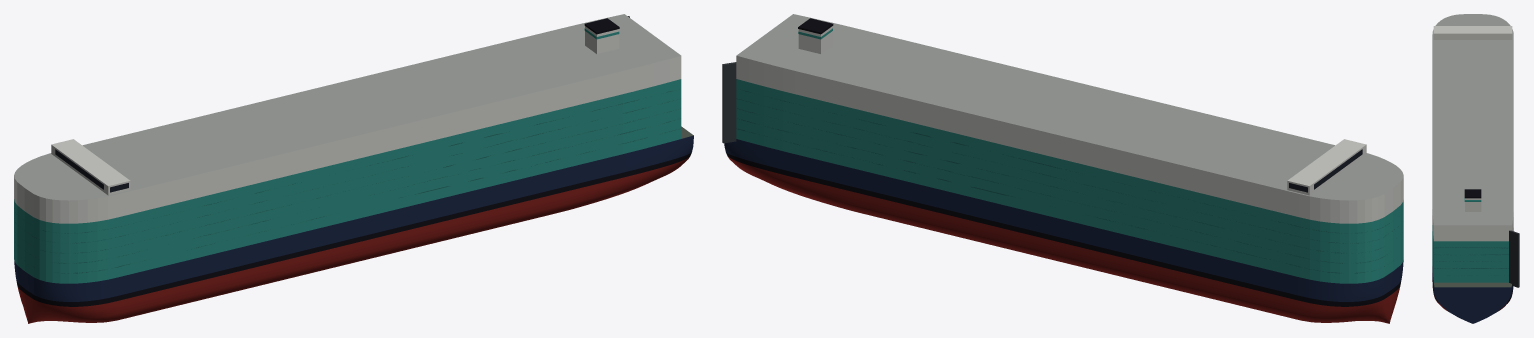
File: car_carrier.glb
3 views of the same model, side by side, from view 1: azimuth 30°, elevation 25°; view 2: azimuth 150°, elevation 25°; view 3: azimuth 270°, elevation 25° (orthographic). The views are drawn at different scales.
Visible parts, largest first — view 1: car_carrier; view 2: car_carrier; view 3: car_carrier.
Part boxes in pixels (x1,y1,x2,y2): car_carrier: (14,14,693,323); car_carrier: (722,14,1403,323); car_carrier: (1432,14,1519,323).
Bounding box in the file's own units: 201 × 47.48 × 34.3.
